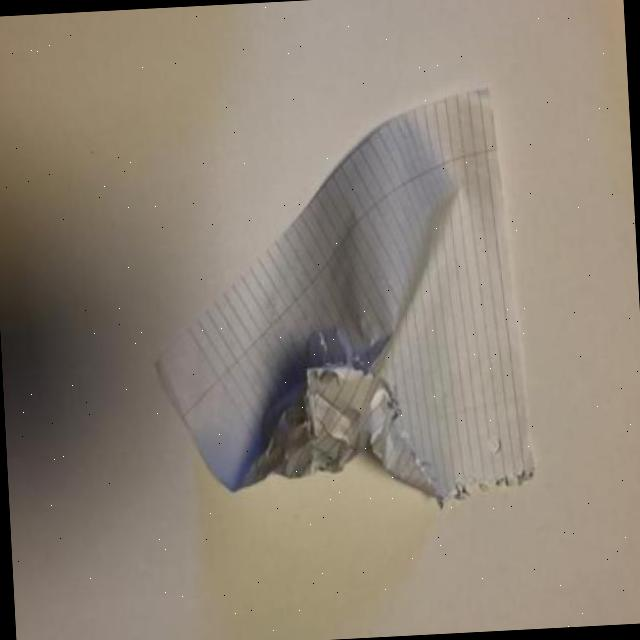trash: (142, 84, 538, 520)
